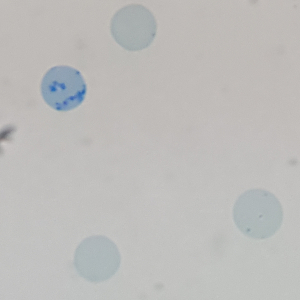aggregate reticulocyte: (39, 64, 89, 113)
erythrocyte: (72, 234, 122, 284)
punctate reticulocyte: (230, 187, 285, 241), (108, 2, 159, 53)
